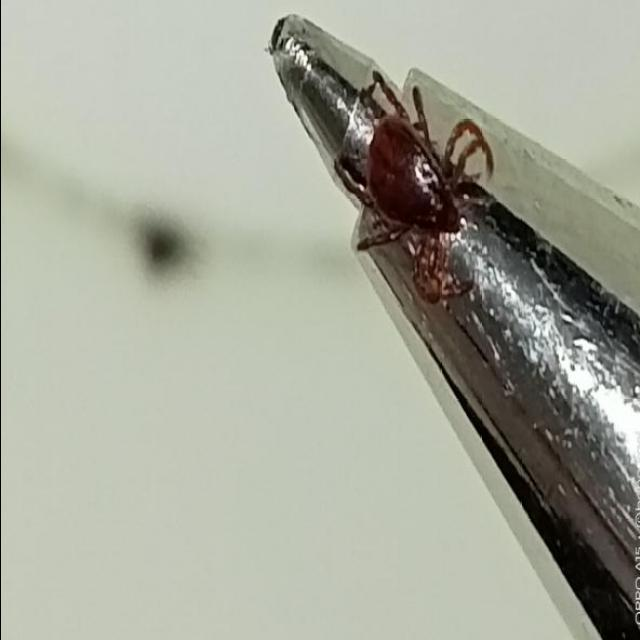Rhipicephalus Sanguineus-M: (333, 70, 486, 304)
